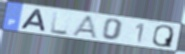0: (101, 18, 124, 42)
1: (135, 23, 146, 44)
A: (70, 15, 99, 40), (19, 8, 47, 33)
L: (50, 10, 70, 36)
Q: (151, 24, 175, 49)
